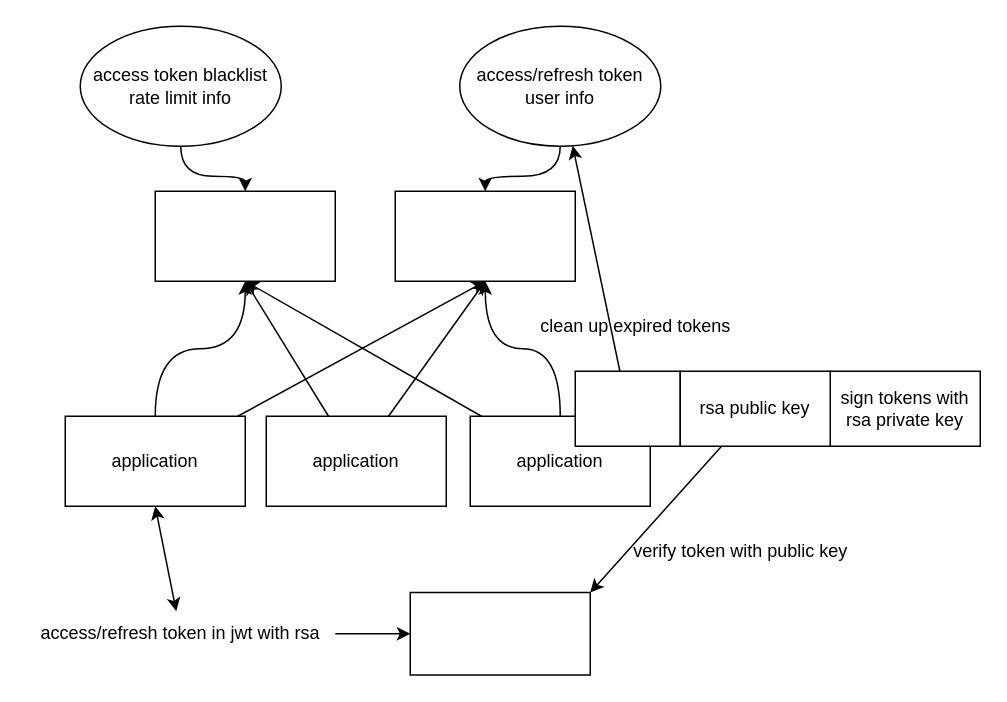
Image size: 1007x702. Some labels were removed from this diagram. Here are the shapes that lost their labels. From the top down, the box of each, then its label:
(154, 190, 335, 281): redis
(394, 190, 575, 281): db (posgresql)
(574, 370, 680, 446): jobrunur
(409, 591, 590, 675): other application
